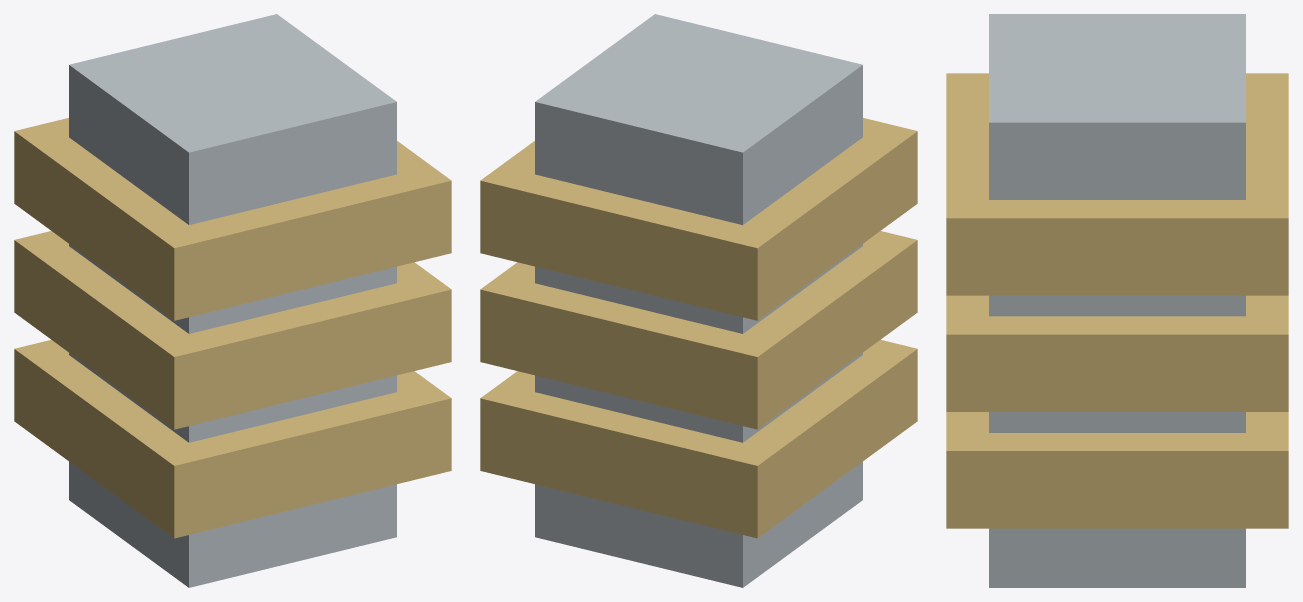
The model's file is shock_body.obj.
3 renders of one model, left to right at view 1: azimuth 30°, elevation 25°; view 2: azimuth 150°, elevation 25°; view 3: azimuth 270°, elevation 25°, orthographic. The views are drawn at different scales.
Parts seen in each view (by area): view 1: shock_body; view 2: shock_body; view 3: shock_body.
Part boxes in pixels (box(x1,y1,x2,y2)): shock_body: box(14, 14, 451, 587); shock_body: box(480, 14, 917, 587); shock_body: box(946, 14, 1288, 587).
Size of the model in its own units: 0.25 by 0.375 by 0.25.
